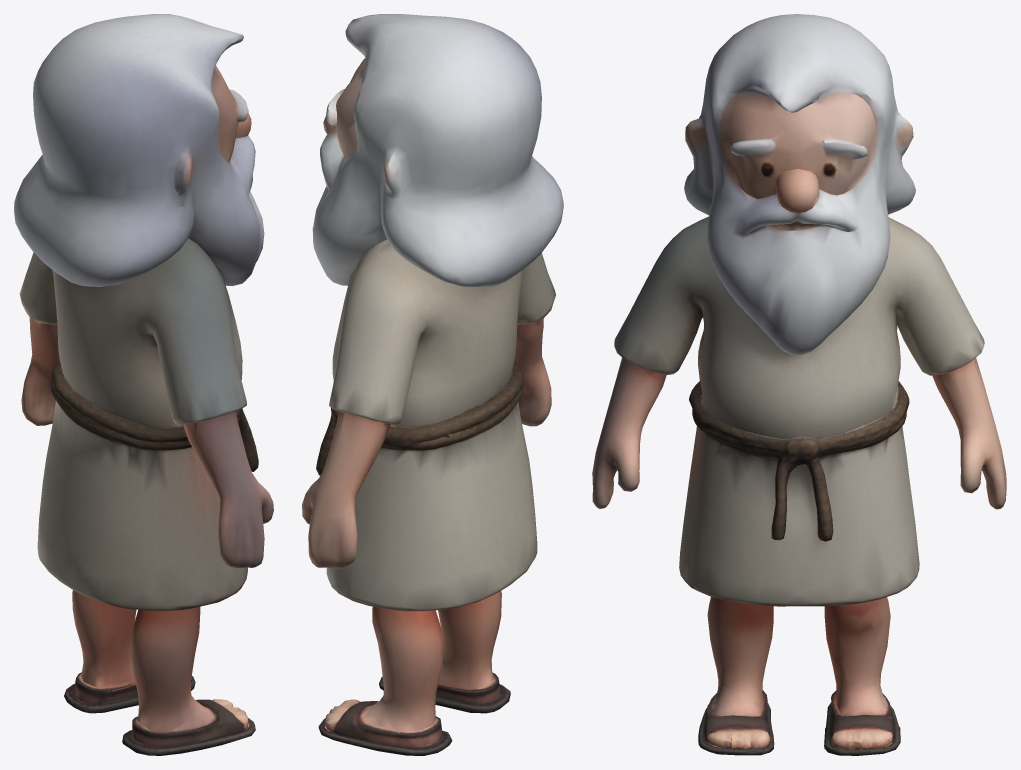
File: noe_multi_s42.glb
3 views of the same model, side by side, from view 1: azimuth 30°, elevation 25°; view 2: azimuth 150°, elevation 25°; view 3: azimuth 270°, elevation 25° (orthographic).
Visible parts, largest first — view 1: esposa; view 2: esposa; view 3: esposa.
Boxes of the visible parts, x1,y1,x2,y2 form: esposa: (14,14,273,755); esposa: (302,14,563,755); esposa: (592,14,1006,755).
Bounding box in the file's own units: 0.4661 × 1.5 × 0.8063.
Materials: 1 (1 with a texture image).
